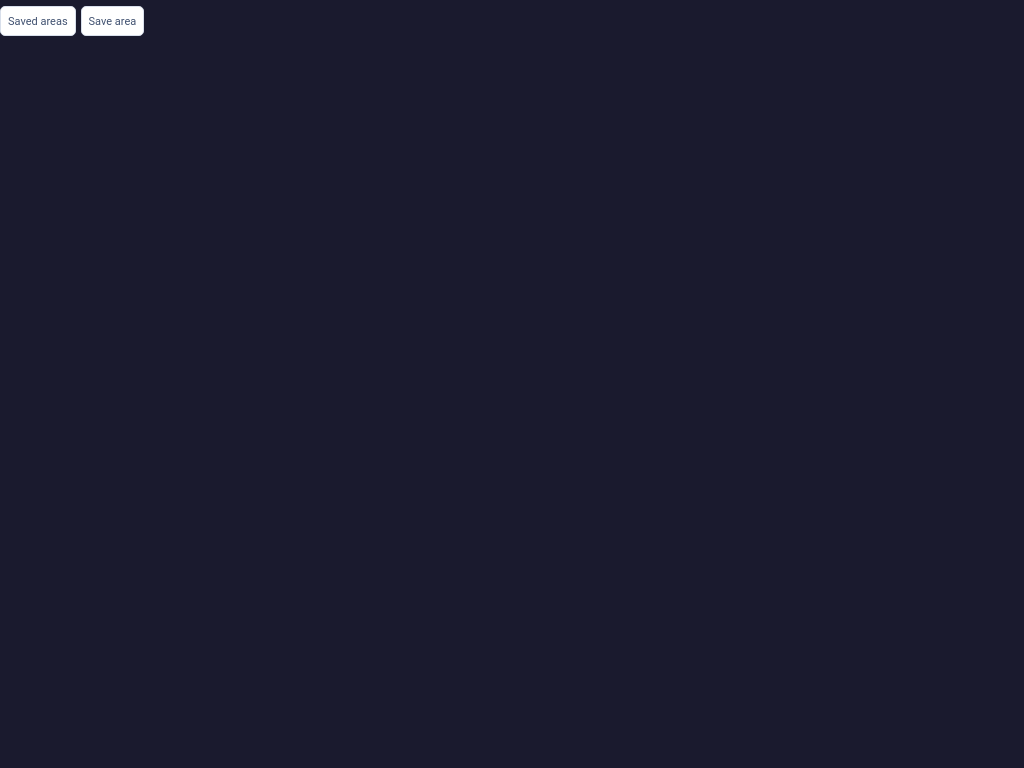
saving through the Composer portal never submits the surrounding chat form
Click the button "Save area" at {"x": 112, "y": 21}, box [81,6,144,36]
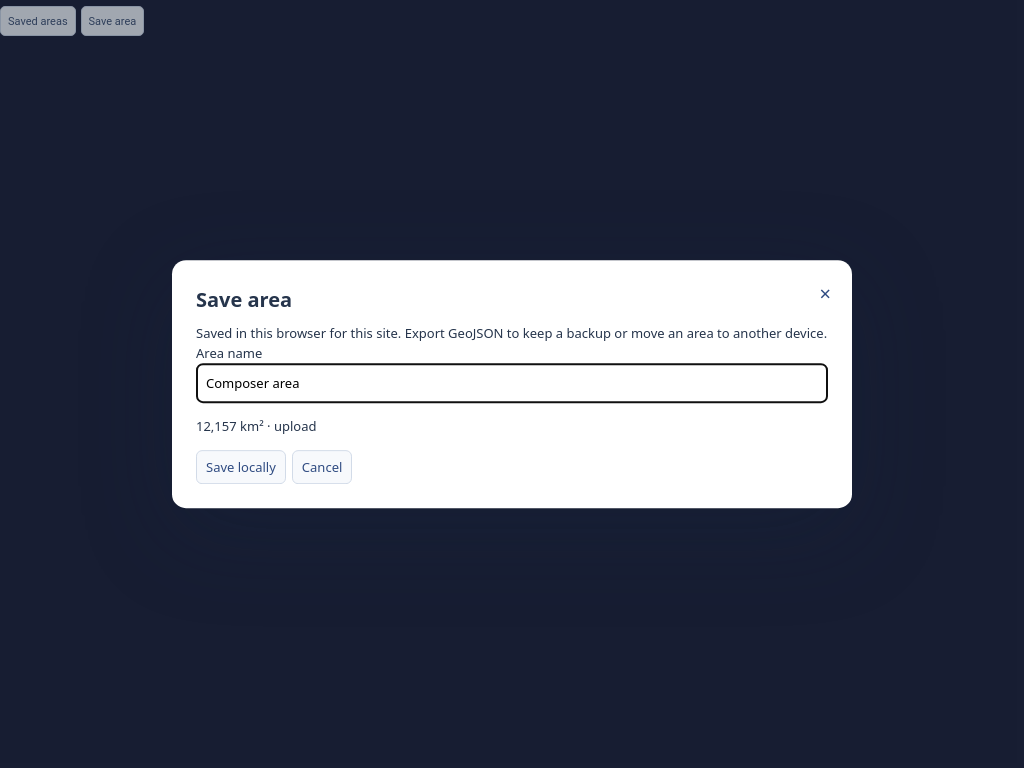
Result: the button "Save locally" is shown
Click the button "Save locally" at {"x": 241, "y": 467}, box [196,450,286,484]
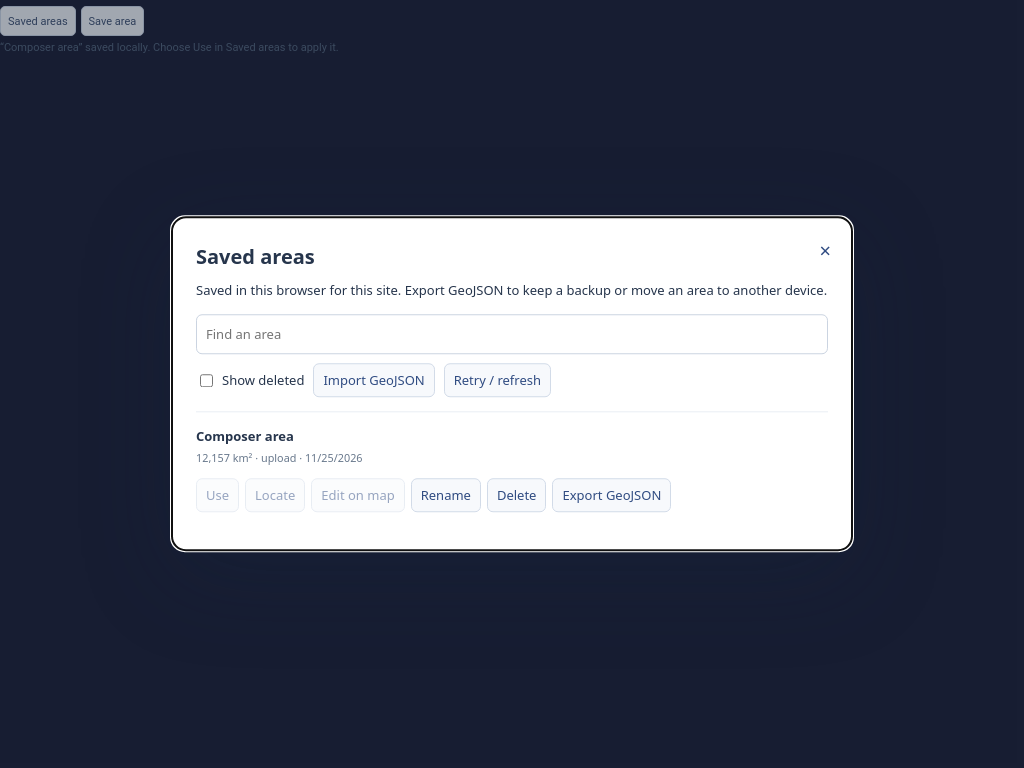
Result: the element with class "aoi-list" shows "Composer area" at [196,428,294,446]
